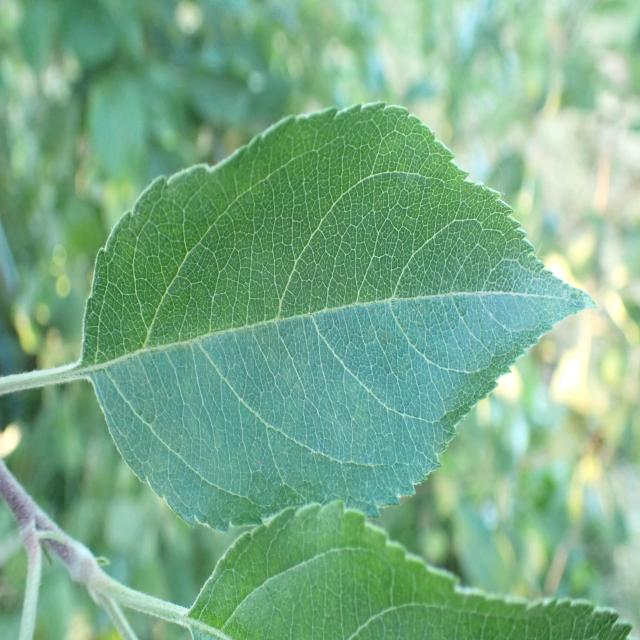healthy: (82, 101, 597, 533), (185, 499, 631, 640)
